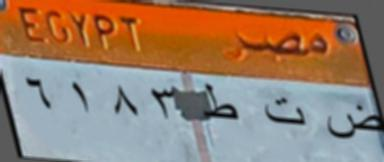1: (65, 78, 97, 120)
3: (149, 83, 182, 126)
6: (23, 67, 56, 117)
8: (107, 82, 142, 124)
Taa: (198, 83, 242, 128)
daad: (322, 100, 382, 142)
taa: (255, 98, 312, 130)
